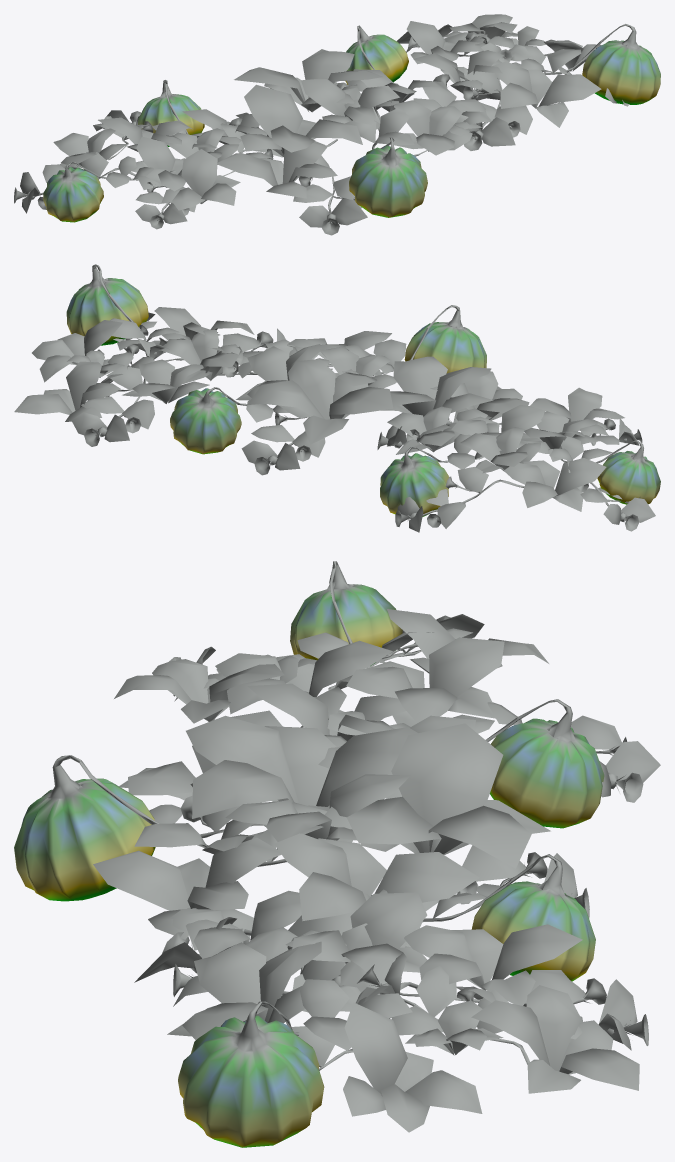
3 renders of one model, top to bottom at view 1: azimuth 30°, elevation 25°; view 2: azimuth 150°, elevation 25°; view 3: azimuth 270°, elevation 25°, orthographic. The views are drawn at different scales.
Visible parts, largest first — view 1: G:\FFXIV-MapTools\exports\y6f3\bg\ex5\02_ykt_y6\fld\y6f3\bgp (×2); view 2: G:\FFXIV-MapTools\exports\y6f3\bg\ex5\02_ykt_y6\fld\y6f3\bgp (×2); view 3: G:\FFXIV-MapTools\exports\y6f3\bg\ex5\02_ykt_y6\fld\y6f3\bgp (×2).
Boxes of the visible parts, x1,y1,x2,y2 form: G:\FFXIV-MapTools\exports\y6f3\bg\ex5\02_ykt_y6\fld\y6f3\bgp (×2): (14,14,660,235); G:\FFXIV-MapTools\exports\y6f3\bg\ex5\02_ykt_y6\fld\y6f3\bgp (×2): (14,264,660,532); G:\FFXIV-MapTools\exports\y6f3\bg\ex5\02_ykt_y6\fld\y6f3\bgp (×2): (14,561,660,1147).
Bounding box in the file's own units: 5.48 × 0.7841 × 2.81.
